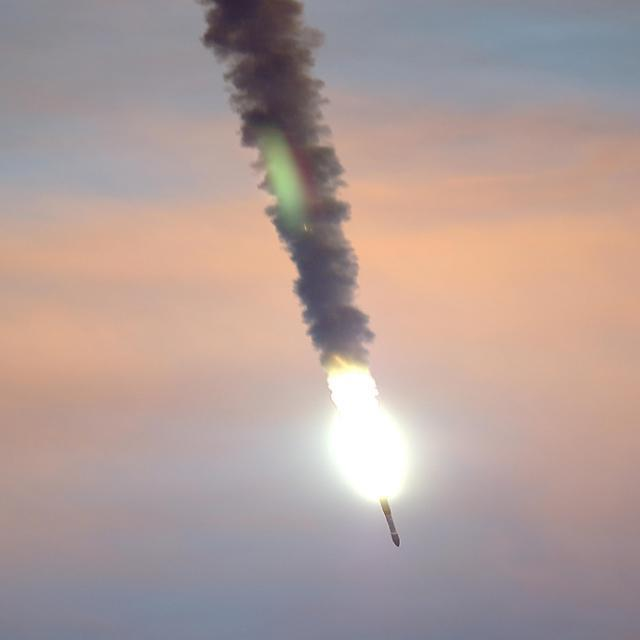missile: (372, 484, 422, 554)
